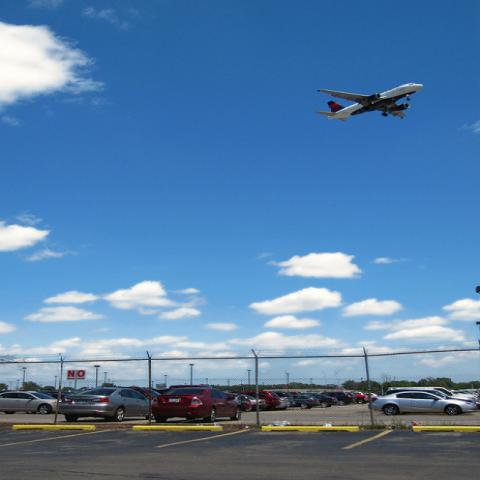car: (153, 384, 242, 423), (58, 388, 156, 422), (370, 392, 476, 416), (0, 392, 60, 416), (226, 392, 268, 412), (250, 393, 281, 411), (123, 387, 162, 401), (317, 392, 355, 406), (233, 391, 280, 400), (291, 394, 321, 408), (312, 395, 339, 408), (348, 391, 370, 404)
